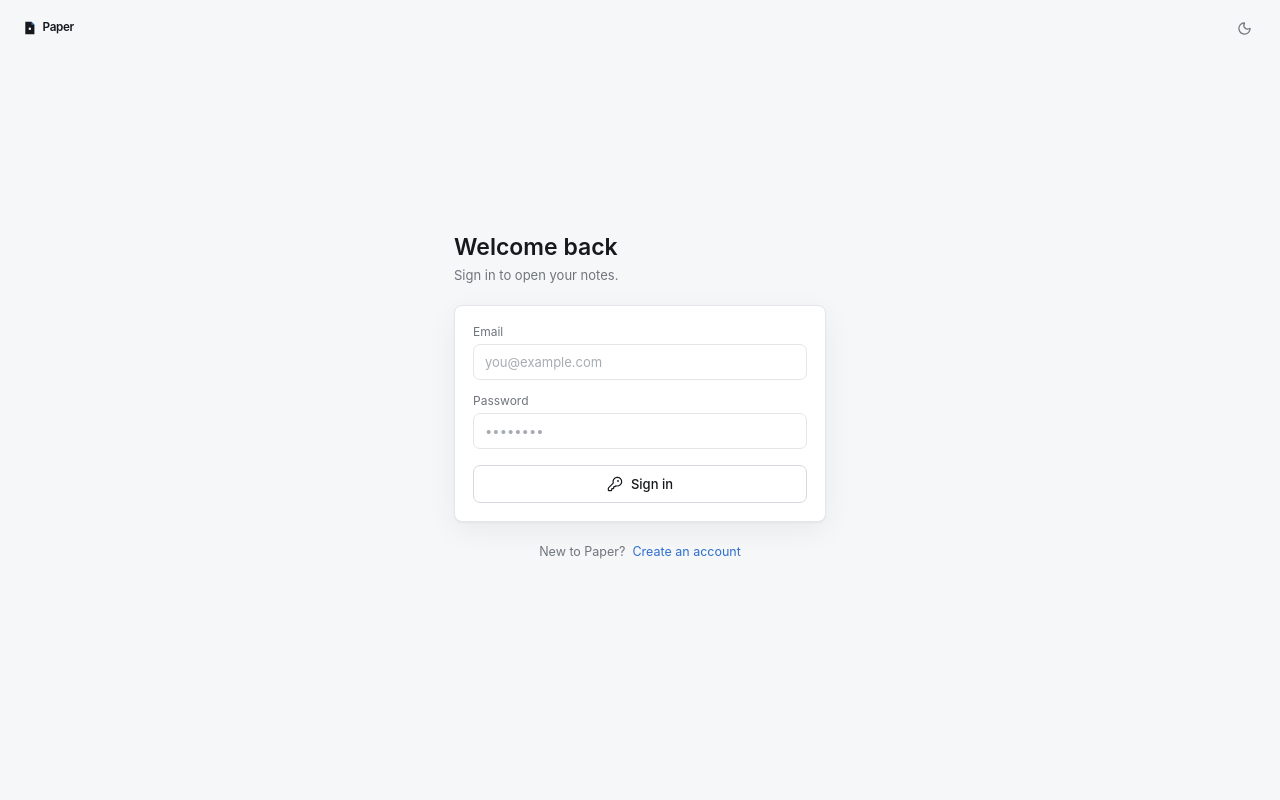
Test case: LoginPage › switches to the registration form and reveals the name field
Click the button "Create an account": (687, 552) [632, 544, 741, 559]
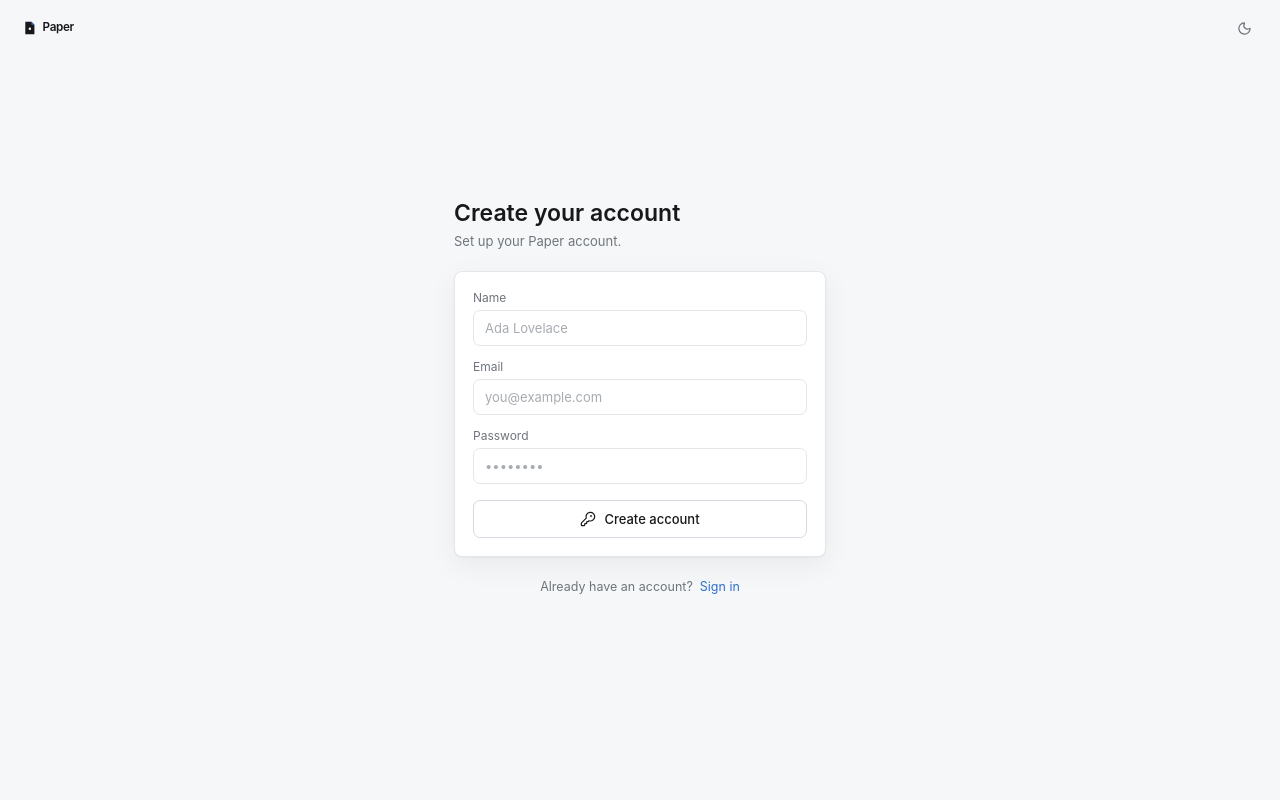
Check: the field labelled "Name" is shown, box [473, 310, 807, 346]
